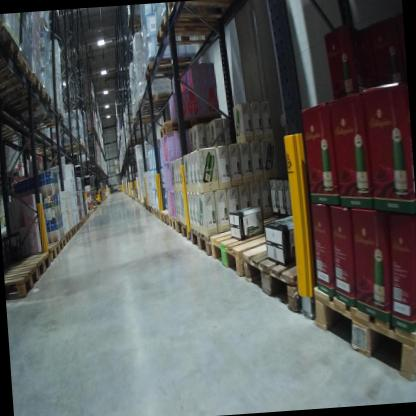pallet: (313, 274, 416, 387), (209, 213, 311, 286), (242, 226, 307, 321), (151, 5, 245, 50), (0, 50, 36, 107), (0, 72, 46, 114), (143, 51, 206, 81), (156, 112, 223, 139), (8, 86, 57, 121), (0, 25, 22, 94), (5, 264, 42, 302), (167, 0, 249, 17), (14, 250, 53, 283), (191, 222, 216, 259), (25, 110, 67, 131), (136, 92, 180, 110), (33, 241, 61, 265), (131, 112, 167, 130), (177, 216, 192, 246), (60, 137, 84, 153), (160, 206, 177, 228), (125, 13, 147, 30), (167, 213, 179, 232), (0, 15, 5, 51), (57, 236, 67, 254), (9, 168, 22, 179), (65, 229, 73, 244), (69, 226, 77, 238), (155, 208, 161, 221), (77, 220, 84, 227), (74, 223, 80, 231)
